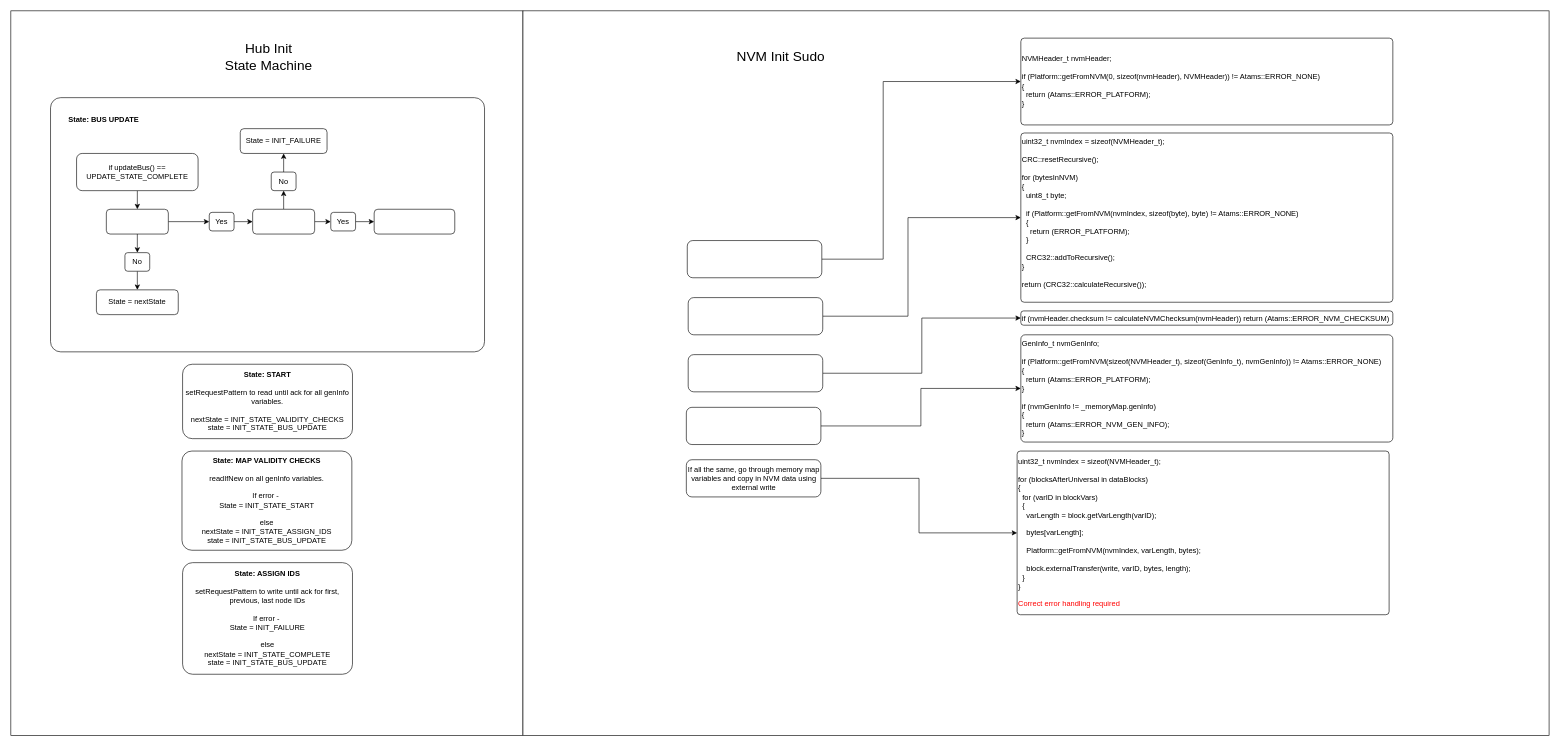
The diagram is 1560 pixels wide and 746 high, and some of its shapes have lost their labels. Here are the shapes that lost their labels. From the top down, the centre of each, then its label:
At (137,221): "Bus Error?".
At (283,221): "Retry Valid?".
At (414,221): "State = INIT_STATE_START".
At (754,259): "Get length and checksum from start of NVM".
At (755,316): "Calculate NVM checksum using length".
At (755,373): "Compare NVM header checksum against calculated checksum".
At (753,426): "Get genInfo variables from NVM and compare against _memoryMap genInfo variables".
